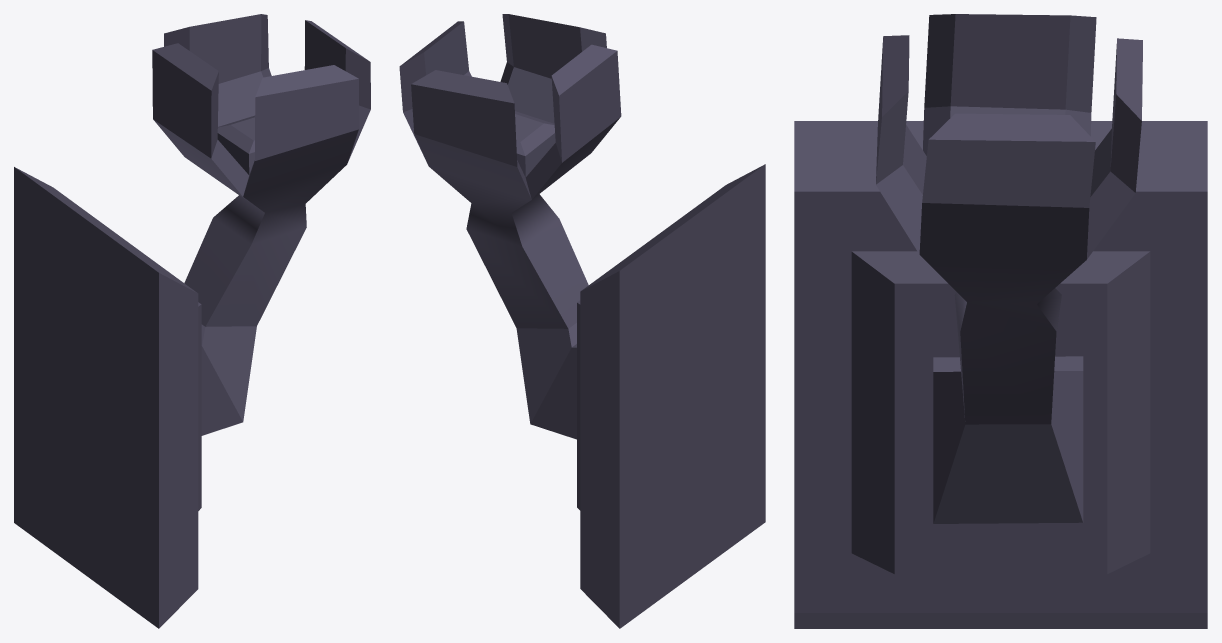
File: WallTorch.fbx
The picture shows the model from 3 angles, left to right: view 1: azimuth 30°, elevation 25°; view 2: azimuth 150°, elevation 25°; view 3: azimuth 270°, elevation 25°; orthographic projection. The views are drawn at different scales.
Parts seen in each view (by area): view 1: pCube110; view 2: pCube110; view 3: pCube110.
Part boxes in pixels (x1,y1,x2,y2): pCube110: (14, 14, 370, 628); pCube110: (399, 14, 765, 628); pCube110: (794, 14, 1207, 628).
Bounding box in the file's own units: 148 × 266 × 143.
